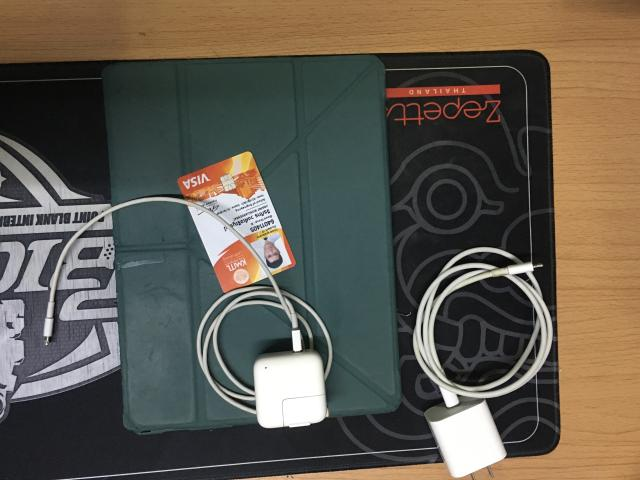wire: (44, 196, 332, 428), (412, 248, 552, 478)
